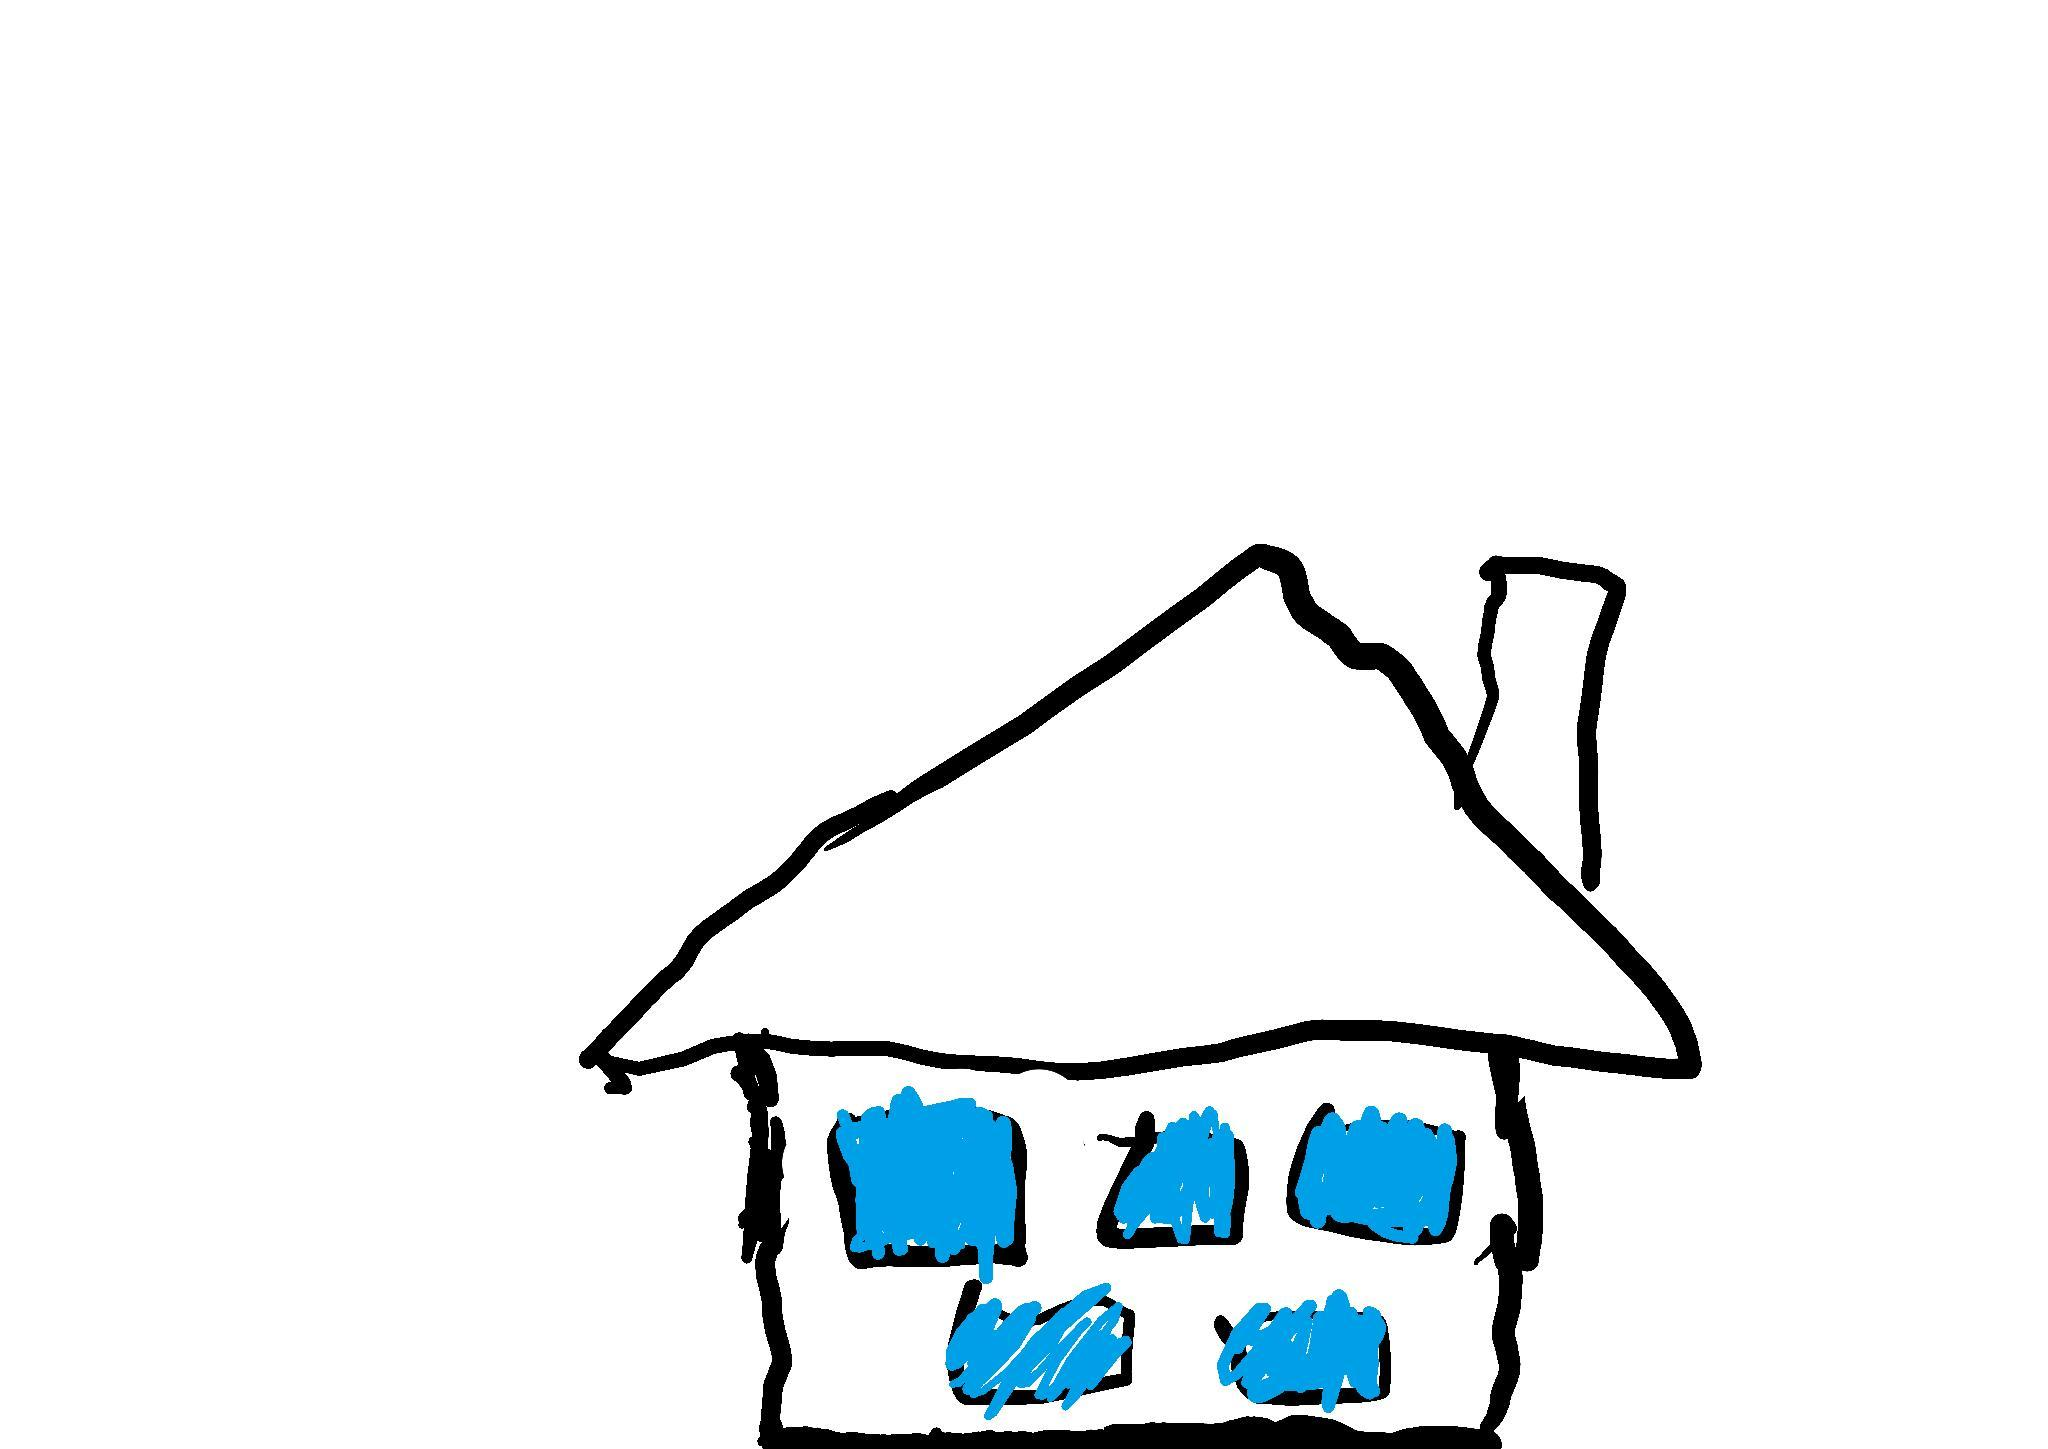chimney: (1465, 558, 1629, 908)
house: (563, 541, 1712, 1449)
roof: (577, 538, 1706, 1088)
wall: (746, 1030, 1538, 1449)
window: (834, 1088, 1019, 1262), (946, 1286, 1134, 1422), (1295, 1107, 1458, 1247), (1218, 1292, 1388, 1414), (1117, 1126, 1237, 1247)
